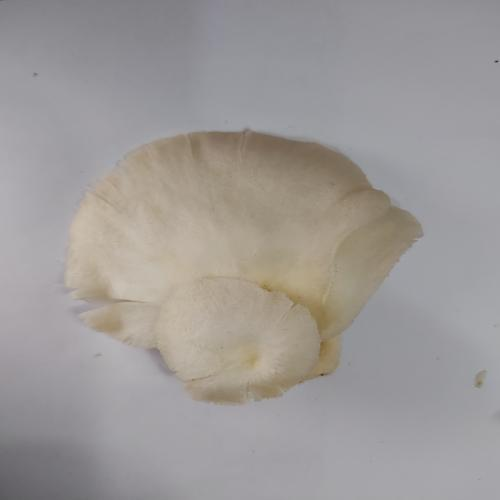Oyster Mushroom: (63, 128, 424, 406)
